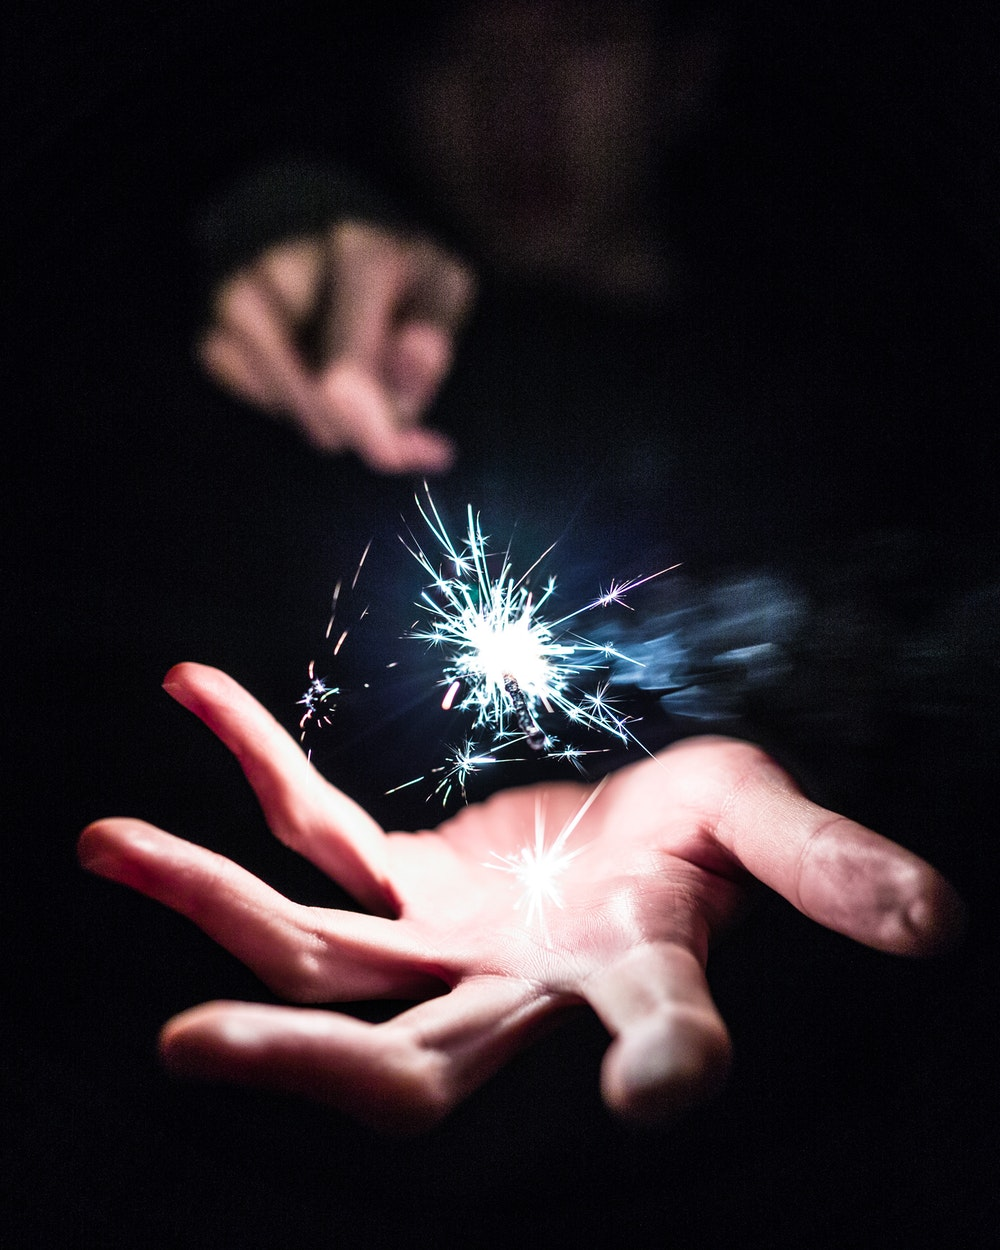palm: (406, 777, 734, 991)
